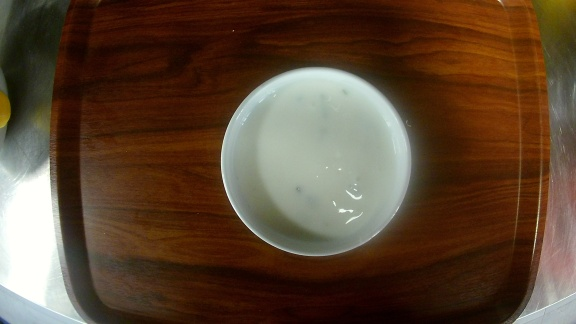cacik: (221, 67, 412, 258)
